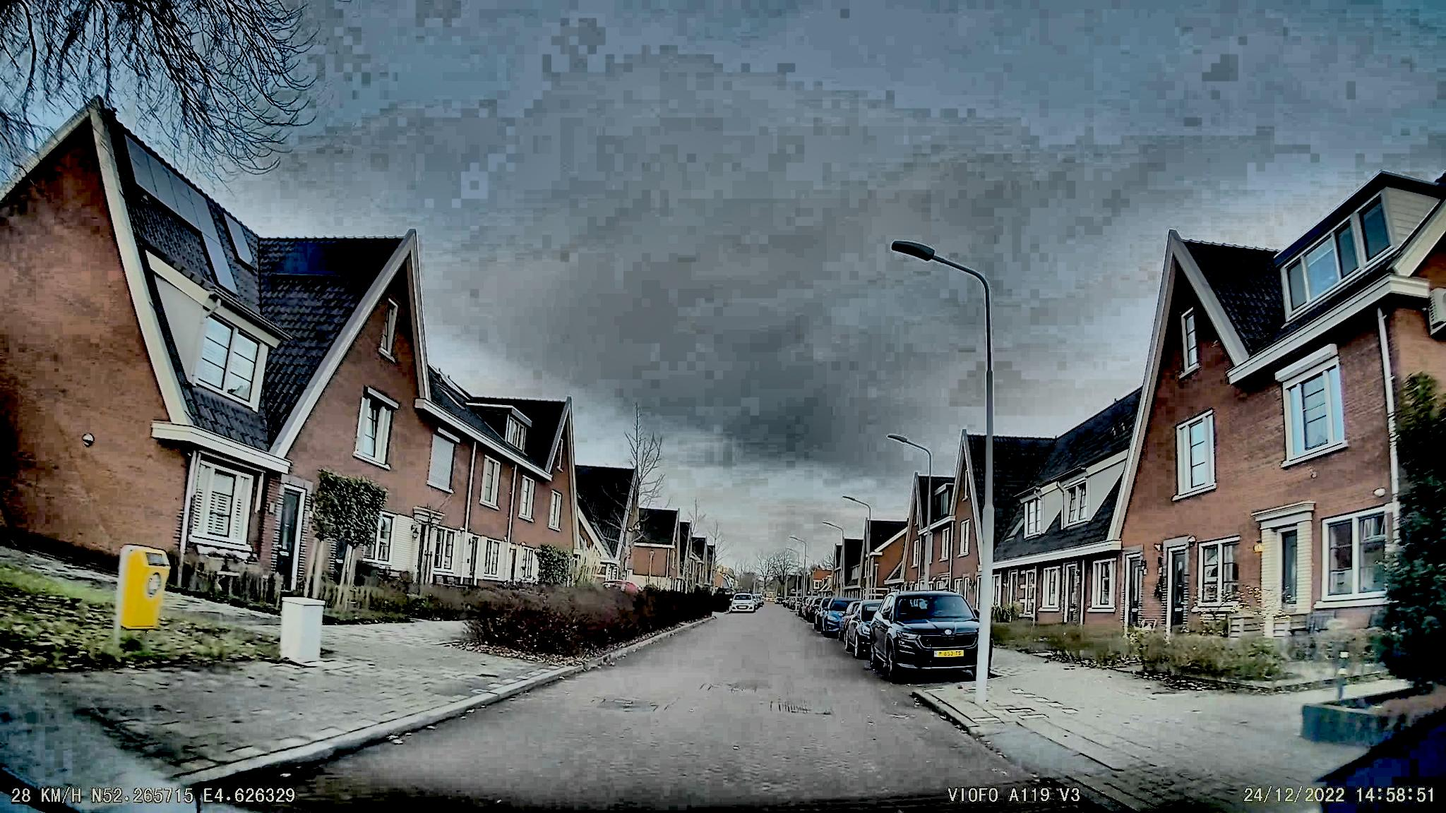Roads: (284, 614, 1098, 813)
